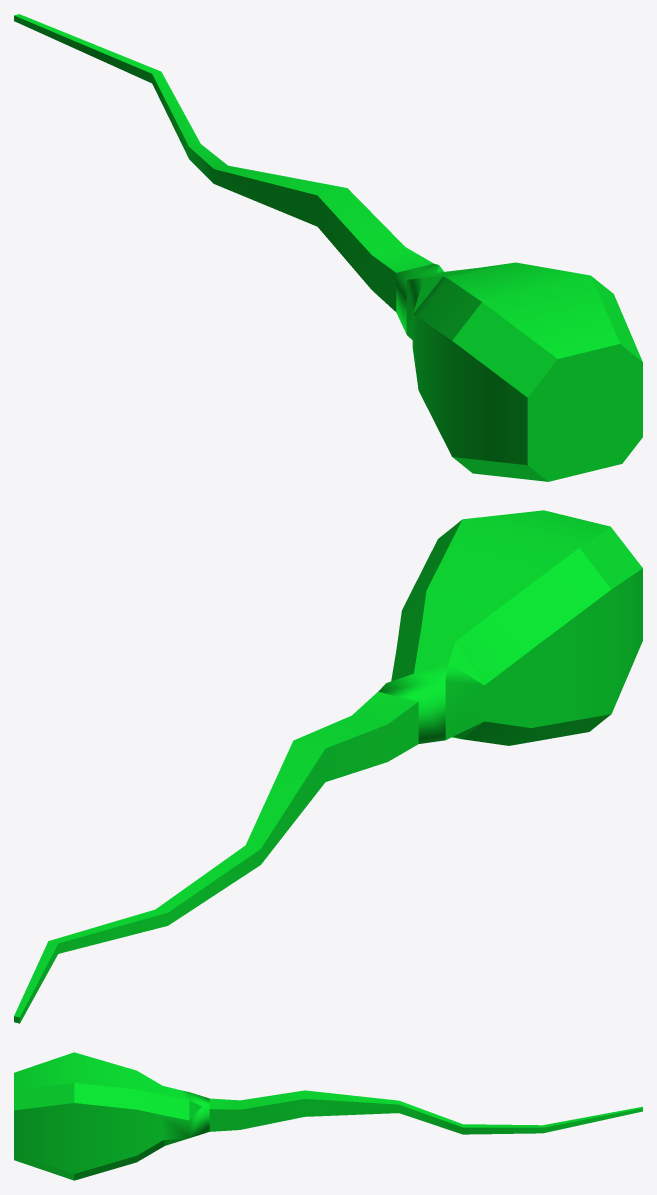
File: player_dump01.fbx
3 renders of one model, top to bottom at view 1: azimuth 30°, elevation 25°; view 2: azimuth 150°, elevation 25°; view 3: azimuth 270°, elevation 25°, orthographic. The views are drawn at different scales.
Parts seen in each view (by area): view 1: player; view 2: player; view 3: player.
Part boxes in pixels (x1,y1,x2,y2): player: (14, 14, 642, 481); player: (14, 510, 642, 1023); player: (14, 1052, 642, 1180).
Bounding box in the file's own units: 1.37 × 1.37 × 8.03.
